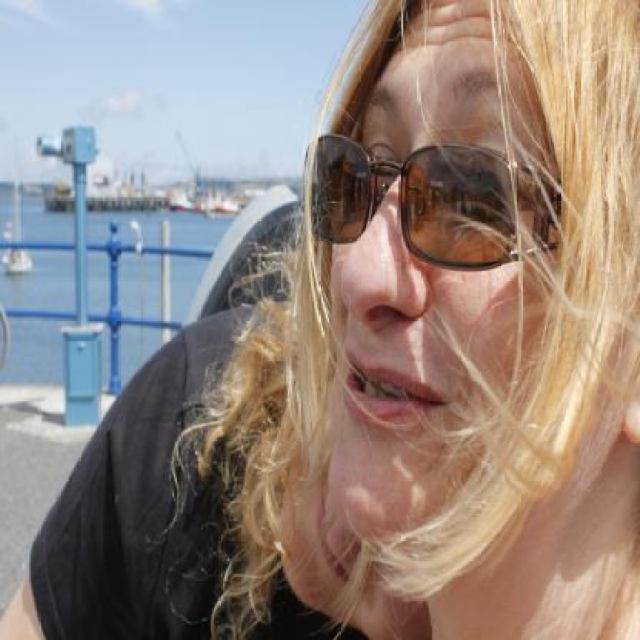face_nomask: (298, 135, 544, 490)
glasses: (312, 136, 563, 270)
